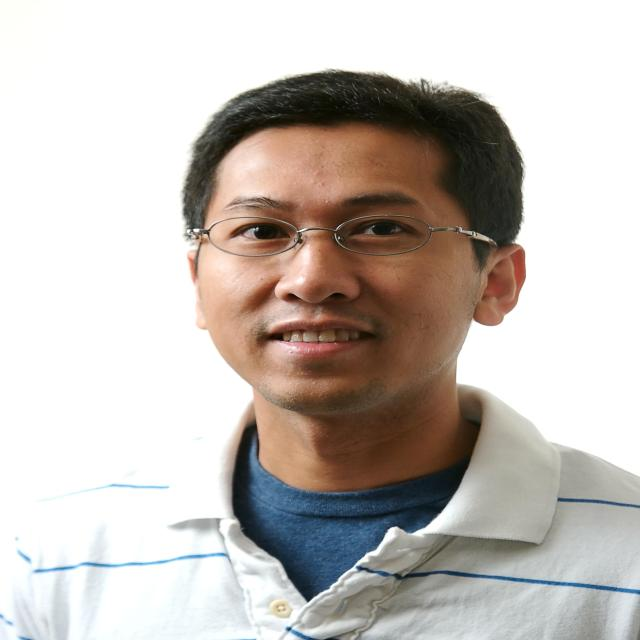no-glass: (237, 217, 420, 246)
